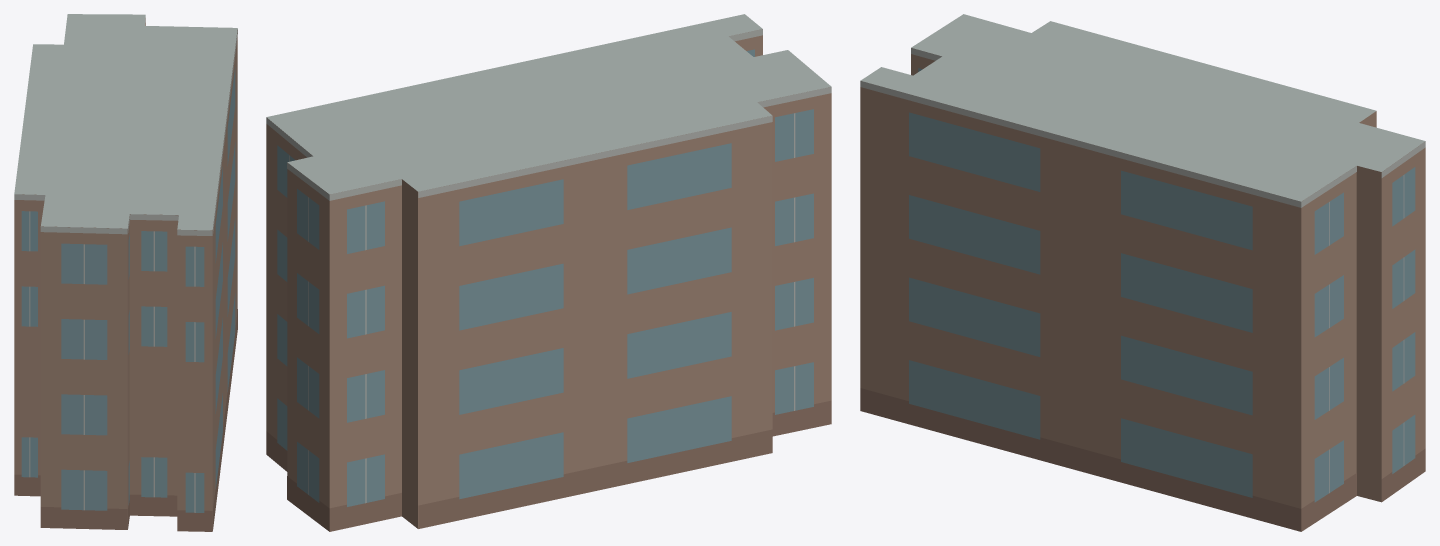
File: survey-upis-32734404.glb
The picture shows the model from 3 angles, left to right: view 1: azimuth 30°, elevation 25°; view 2: azimuth 150°, elevation 25°; view 3: azimuth 270°, elevation 25°; orthographic projection. The views are drawn at different scales.
Visible parts, largest first — view 1: survey-upis-32734404.tmp; view 2: survey-upis-32734404.tmp; view 3: survey-upis-32734404.tmp.
Part boxes in pixels (bbox=[...]): survey-upis-32734404.tmp: bbox=[14, 14, 237, 531]; survey-upis-32734404.tmp: bbox=[266, 14, 831, 531]; survey-upis-32734404.tmp: bbox=[860, 14, 1425, 531].
Bounding box in the file's own units: 15.73 × 12.9 × 20.02.
